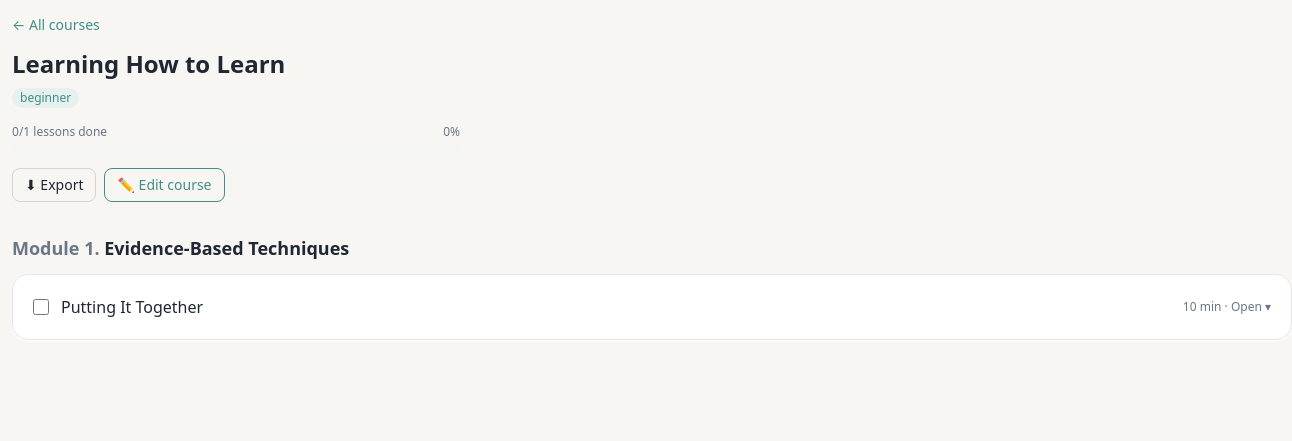
Test: CourseDetail — notebooklm cross-link (M4) › degrades calmly when the linked notebook isn't in this machine's catalog
The width and height of the screenshot is (1292, 441).
Click the button "Putting It Together 10 min · Open ▾" at (132, 307), box left=61, top=295, right=1271, bottom=319
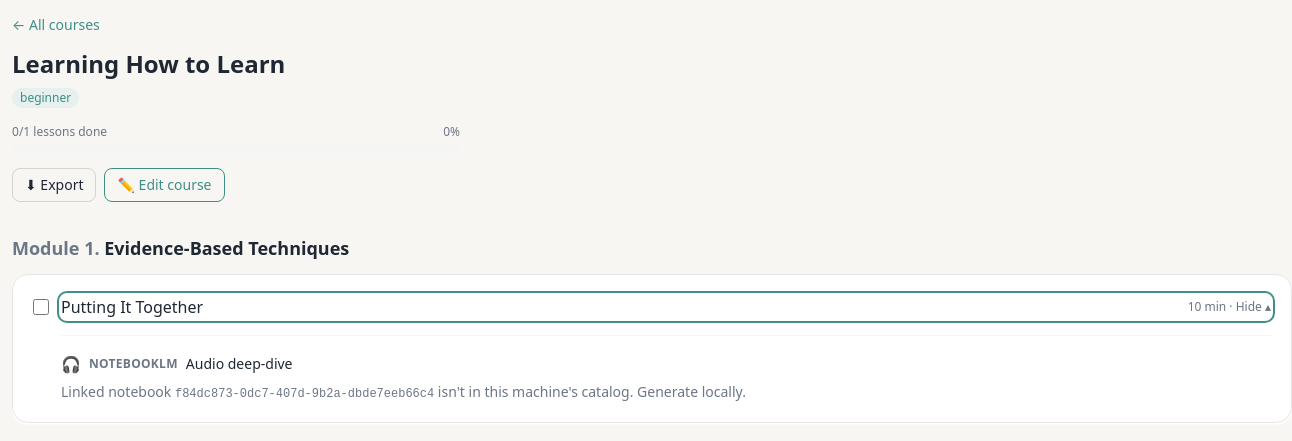
expect the text "isn't in this machine's catalog" is shown: met, box left=434, top=382, right=633, bottom=401
